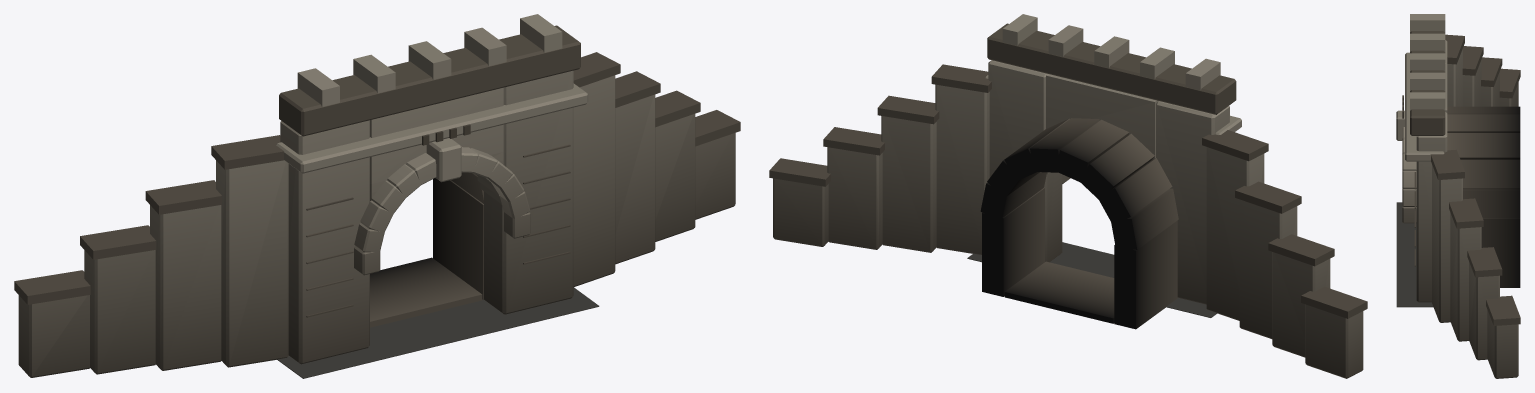
Rendered from tunnel-portal.glb.
The picture shows the model from 3 angles, left to right: view 1: azimuth 30°, elevation 25°; view 2: azimuth 150°, elevation 25°; view 3: azimuth 270°, elevation 25°; orthographic projection. The views are drawn at different scales.
Visible parts, largest first — view 1: tunnel_portal; view 2: tunnel_portal; view 3: tunnel_portal.
Part boxes in pixels (x1,y1,x2,y2): tunnel_portal: (14,14,740,378); tunnel_portal: (769,14,1367,378); tunnel_portal: (1396,14,1520,378).
Size of the model in its own units: 13.48 by 4.97 by 2.82.
